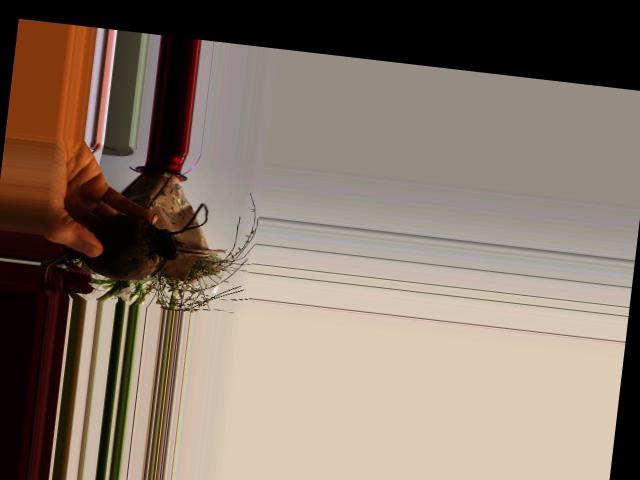beet: (44, 186, 209, 299)
